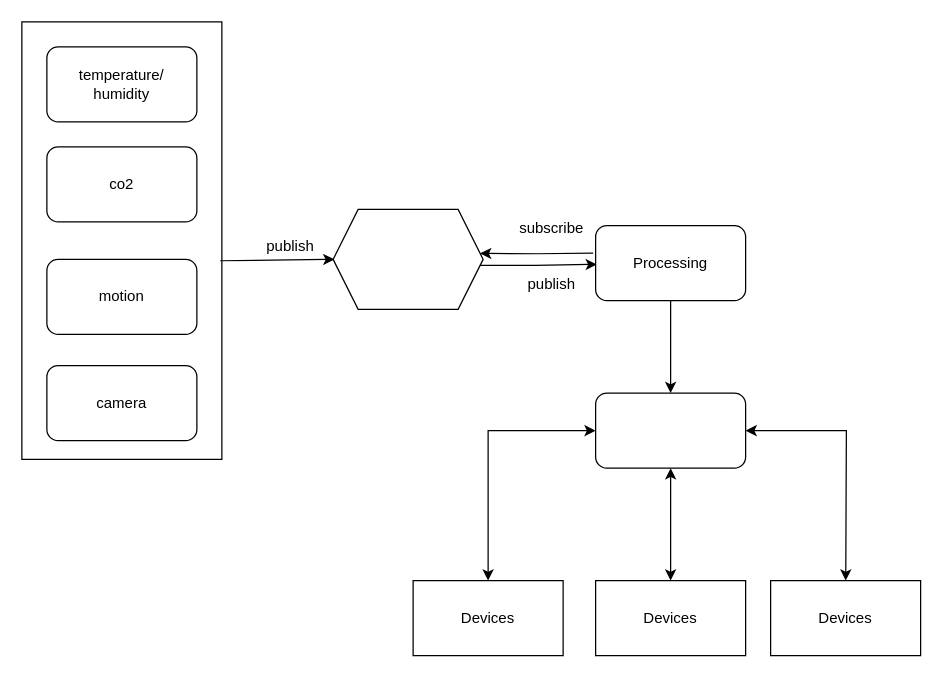
The diagram is 943 pixels wide and 678 high, and some of its shapes have lost their labels. The centre of each missing label's shape, as x and y in pixels:
MQTT broker: point 407,258
Telegram sender BOT: point 670,430
